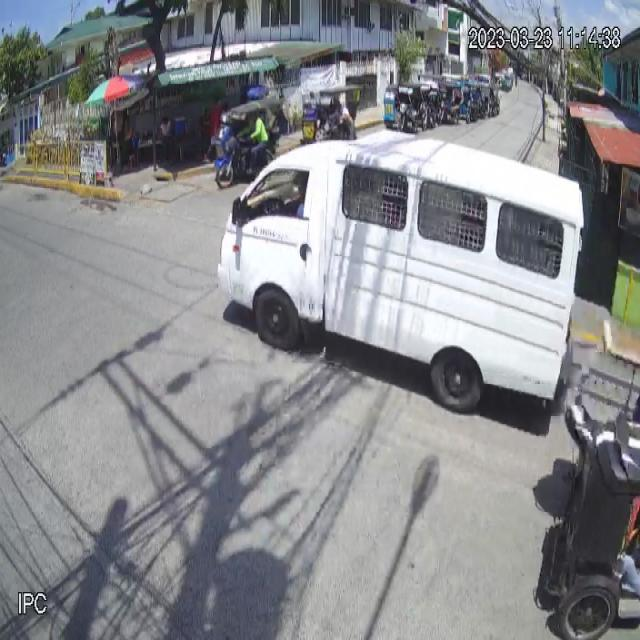Van: (219, 129, 585, 415)
